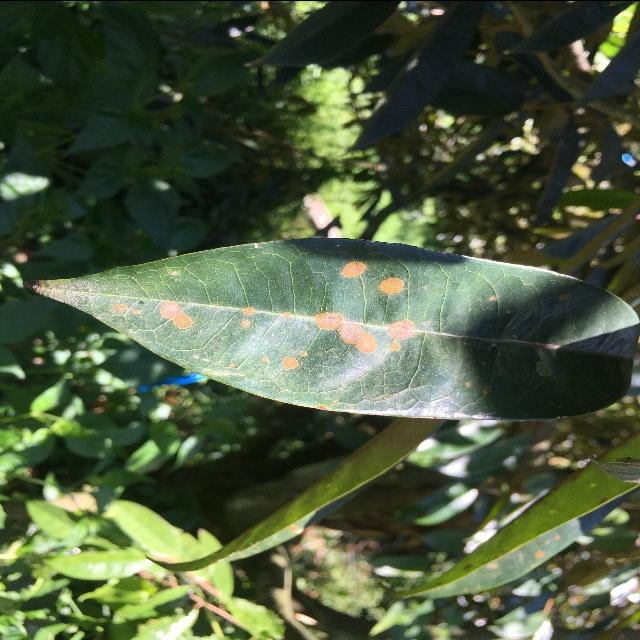Algal Leaf Spot: (25, 231, 640, 431)
